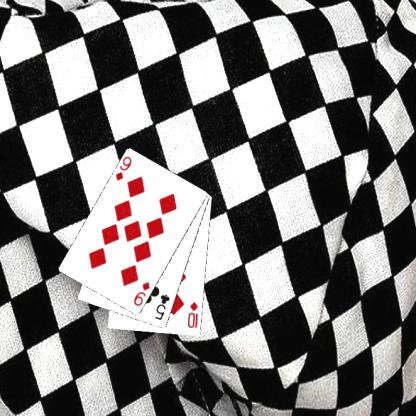10D: (185, 299, 199, 330)
5C: (152, 292, 172, 322)
9D: (131, 279, 151, 307), (113, 154, 133, 182)
